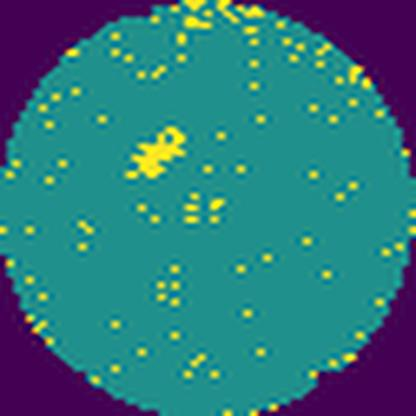Loc: (129, 124, 189, 179)
